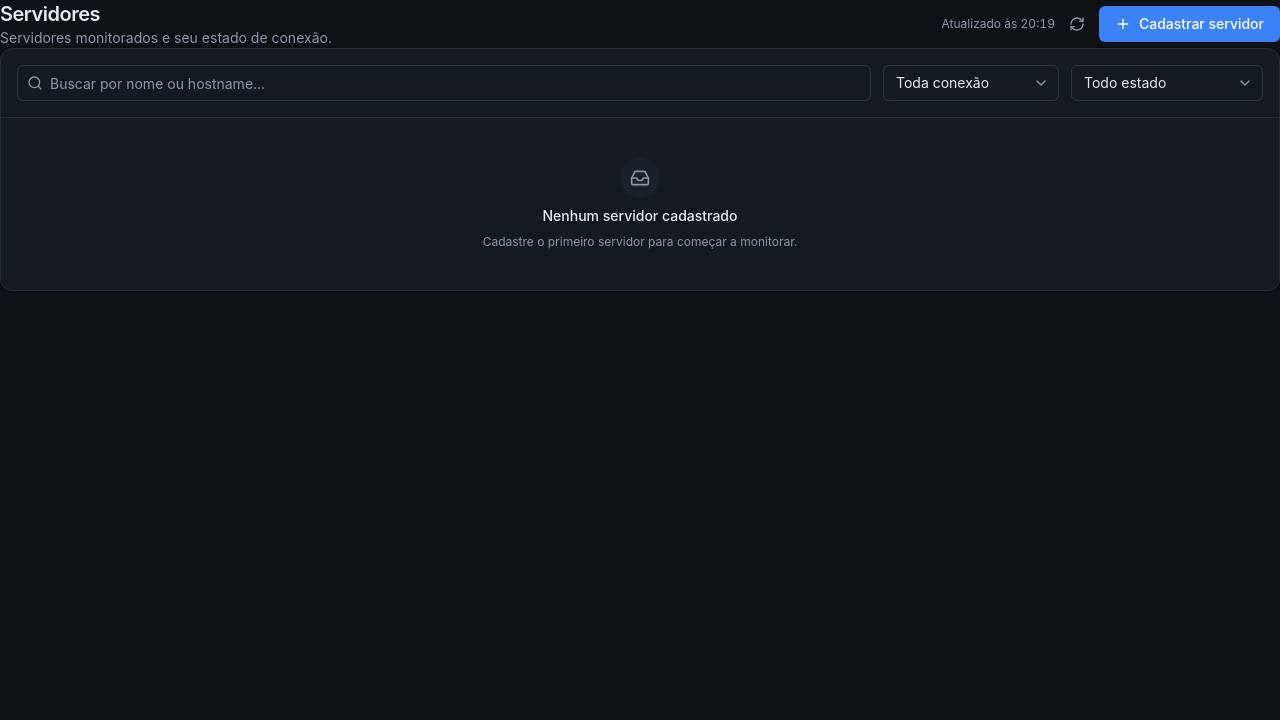
ServersPage › valida o formulário de cadastro e mostra erros por campo
Step 1. Click the button "Cadastrar servidor" → (1189, 24), box [1099,6,1279,42]
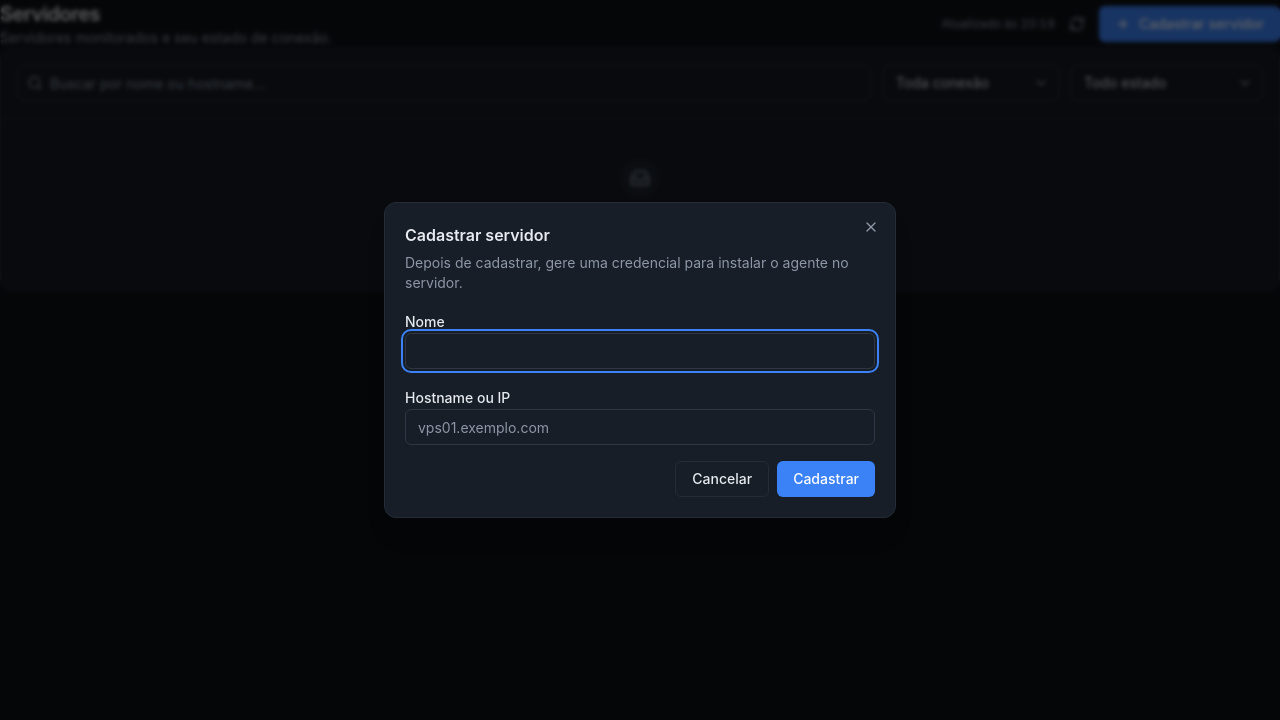
Step 2. Click the button "Cadastrar" → (826, 479), box [777,461,875,497]
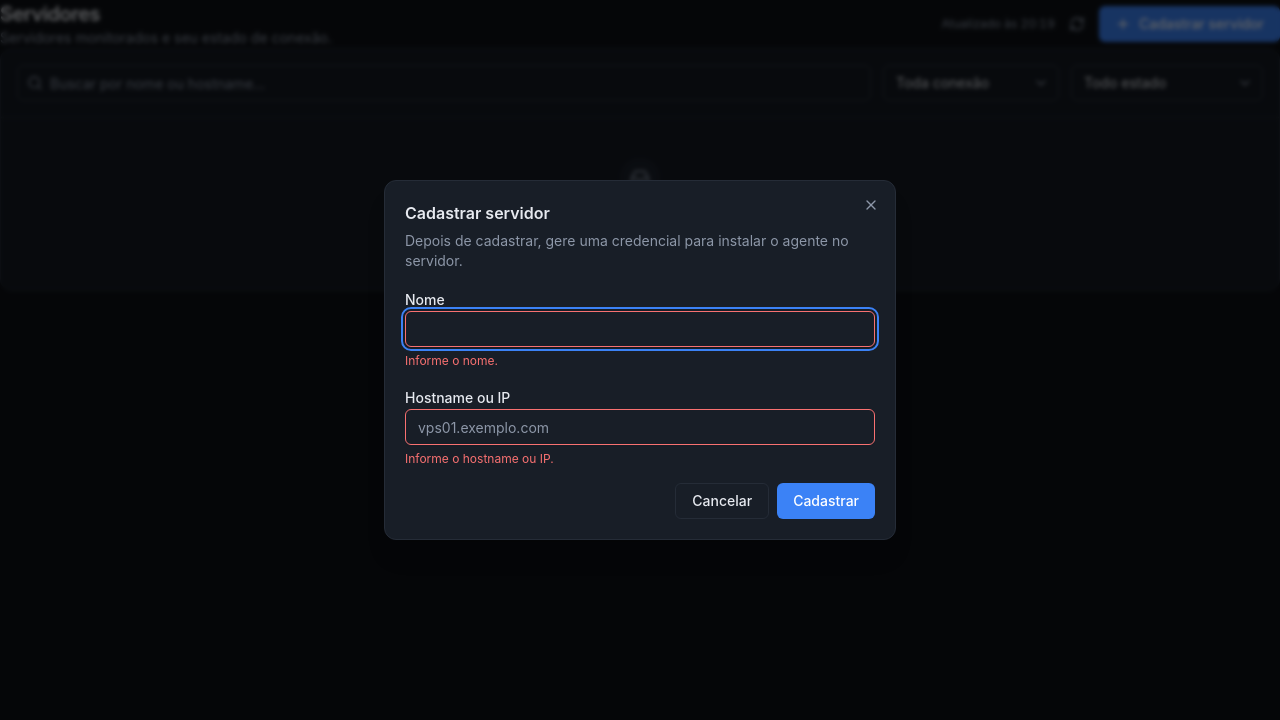
Expected: the text "Informe o nome." is shown, [405,353,498,368]
Expected: the text "Informe o hostname ou IP." is shown, [405,451,554,466]
